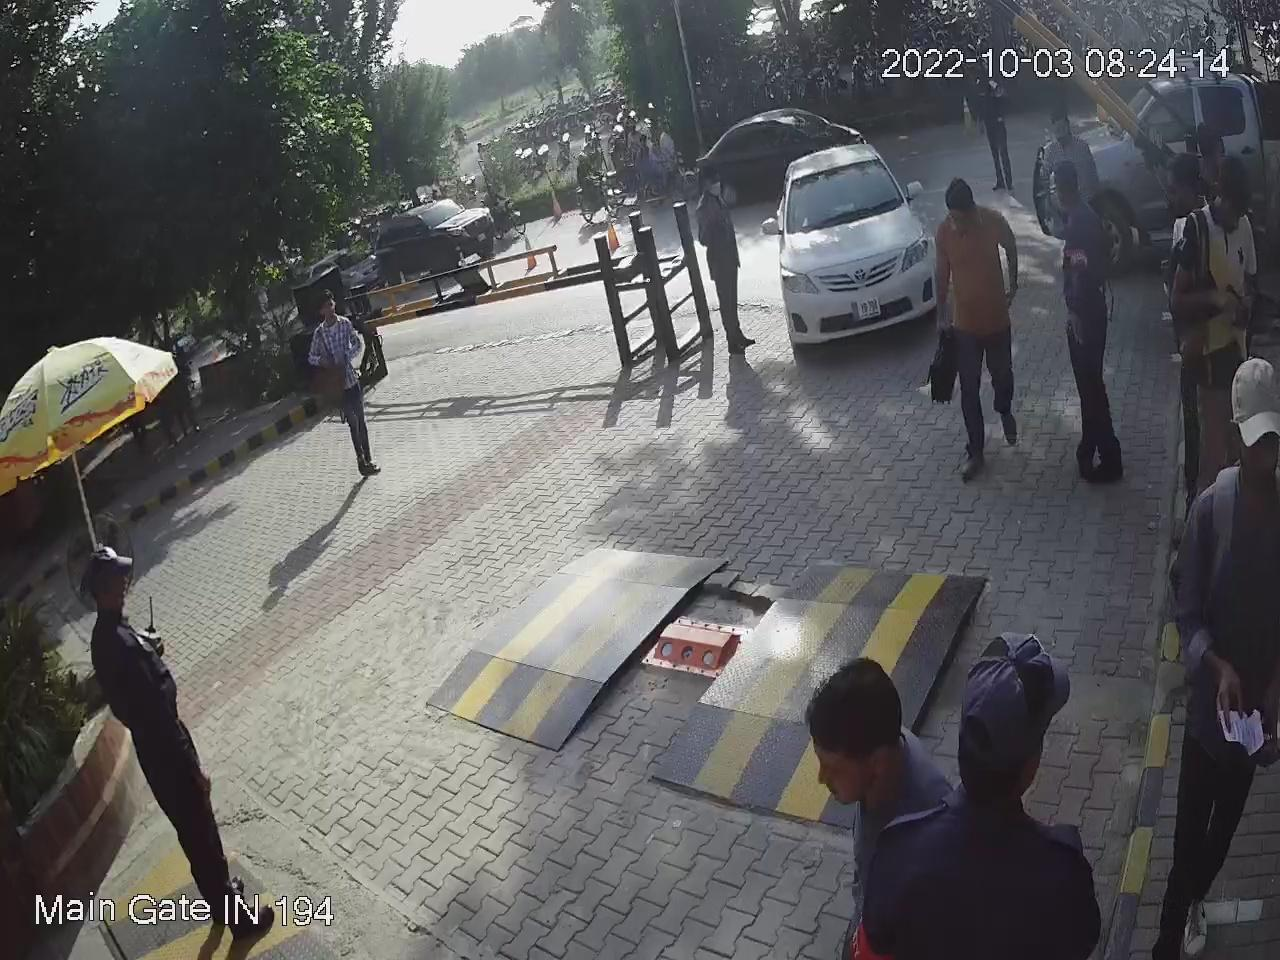windshield: (780, 147, 905, 238)
